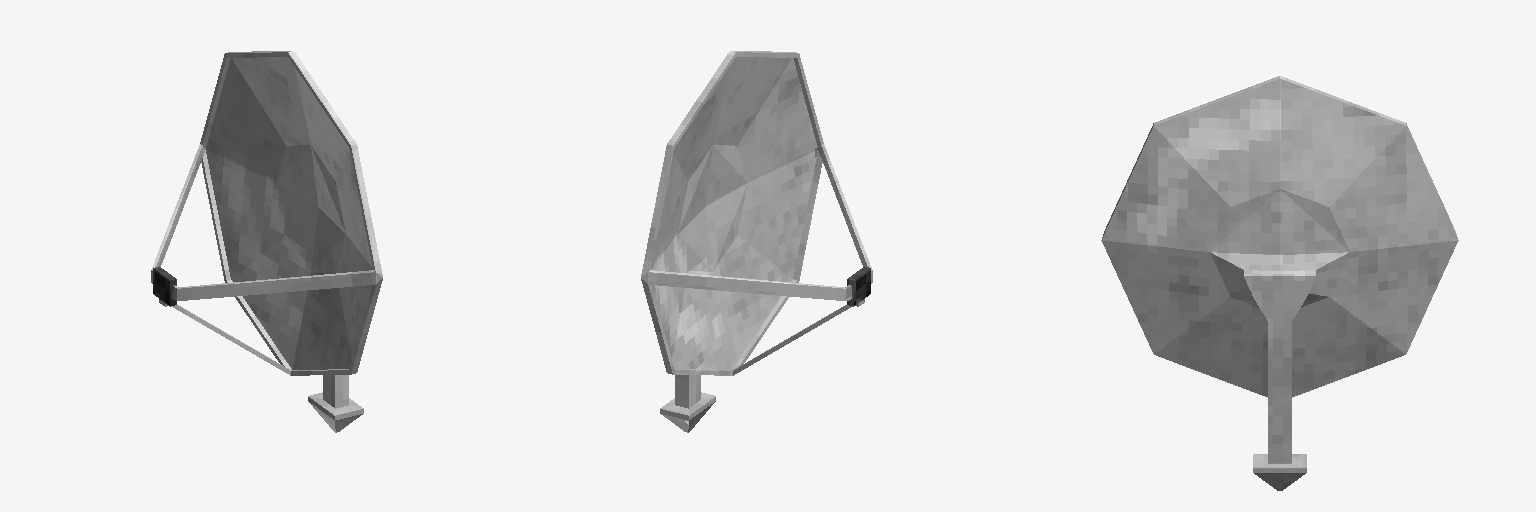
3 views of the same model, side by side, from view 1: azimuth 30°, elevation 25°; view 2: azimuth 150°, elevation 25°; view 3: azimuth 270°, elevation 25° (orthographic).
Parts seen in each view (by area): view 1: Cylinder001; view 2: Cylinder001; view 3: Cylinder001.
Part boxes in pixels (bbox=[...]): Cylinder001: bbox=[151, 51, 382, 432]; Cylinder001: bbox=[641, 51, 872, 432]; Cylinder001: bbox=[1101, 76, 1458, 490].
Size of the model in its own units: 0.3124 by 0.6197 by 0.5118.
Materials: 1 (1 with a texture image).